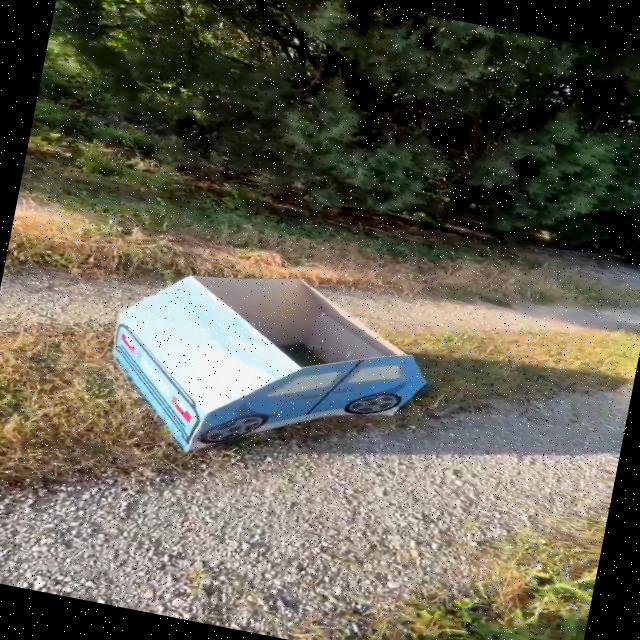blue_car: (30, 206, 481, 515)
